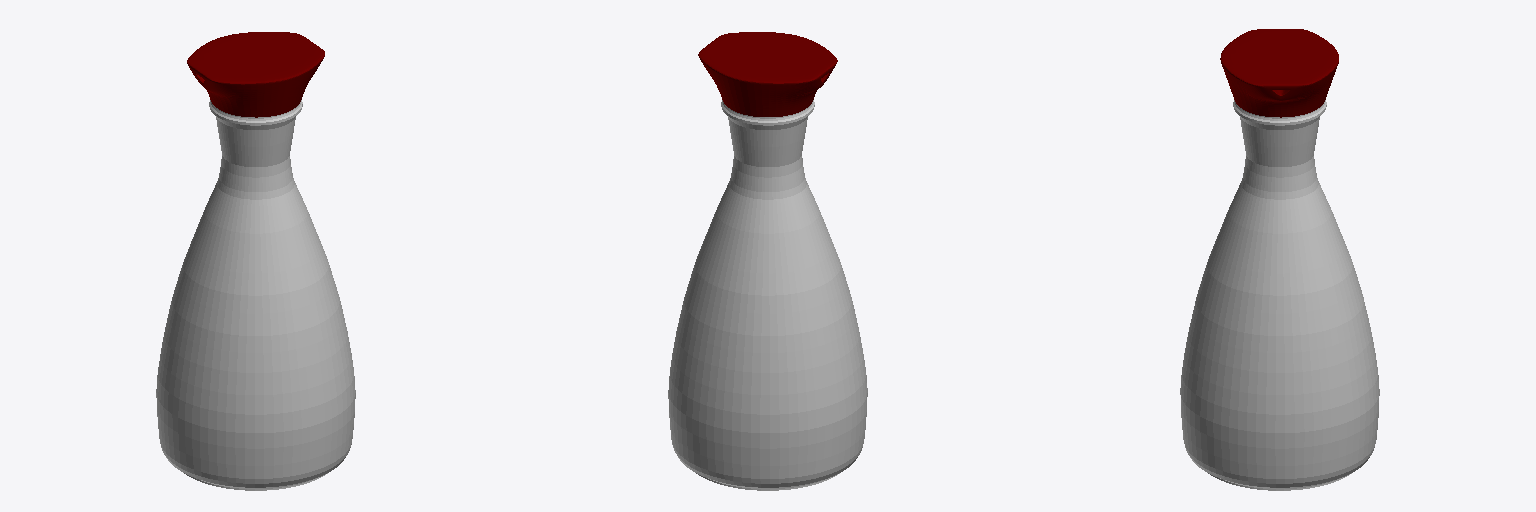
Rendered from soy_sauce_00.obj.
3 views of the same model, side by side, from view 1: azimuth 30°, elevation 25°; view 2: azimuth 150°, elevation 25°; view 3: azimuth 270°, elevation 25° (orthographic).
Visible parts, largest first — view 1: bottle_Plane, cap_Circle.003; view 2: bottle_Plane, cap_Circle.003; view 3: bottle_Plane, cap_Circle.003.
Boxes of the visible parts, x1=… form: bottle_Plane: x1=156, y1=100, x2=355, y2=490; cap_Circle.003: x1=187, y1=32, x2=324, y2=117; bottle_Plane: x1=668, y1=100, x2=867, y2=490; cap_Circle.003: x1=698, y1=32, x2=837, y2=116; bottle_Plane: x1=1180, y1=100, x2=1379, y2=490; cap_Circle.003: x1=1220, y1=29, x2=1338, y2=117.
Size of the model in its own units: 0.052 by 0.115 by 0.052.